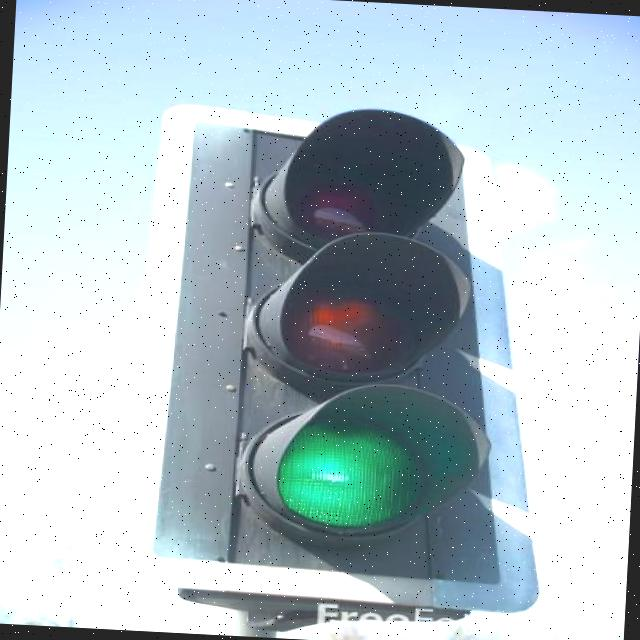Zielone swiatlo: (181, 102, 524, 584)
